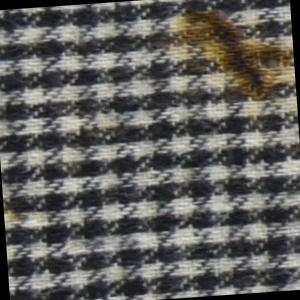Damage: (176, 21, 294, 104)
Oil Stain: (168, 1, 298, 111)
Stain: (4, 197, 48, 227)
